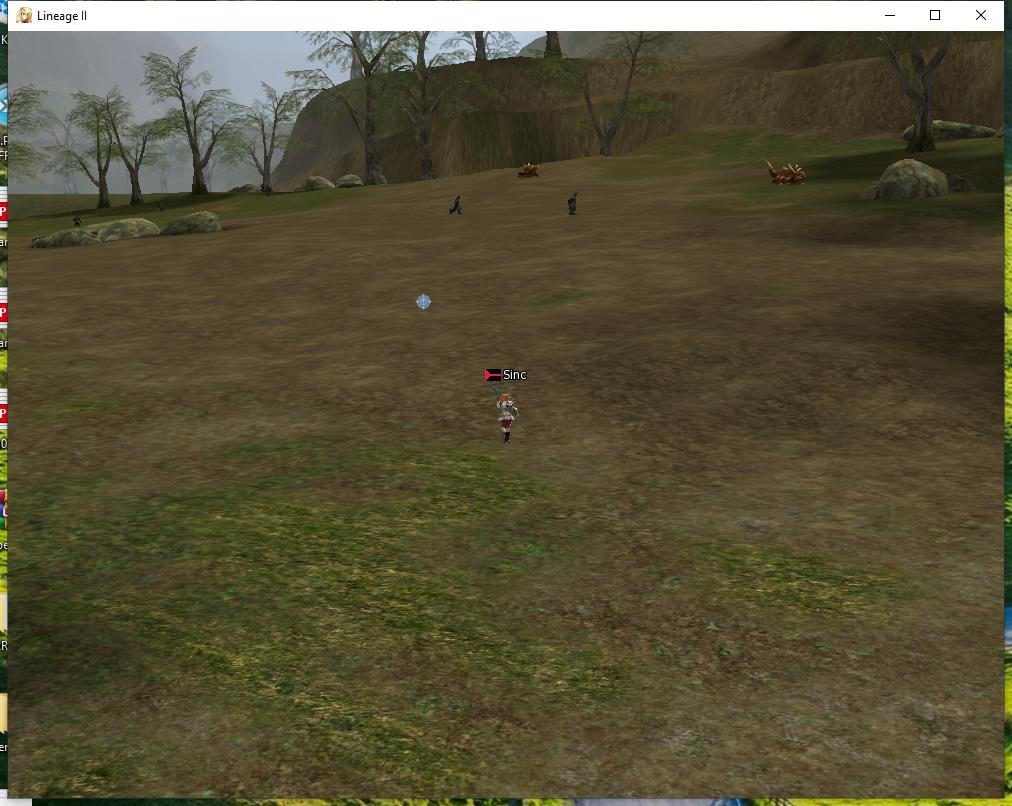monster: (762, 152, 809, 189), (511, 163, 549, 192), (564, 186, 584, 217), (445, 192, 465, 213)
